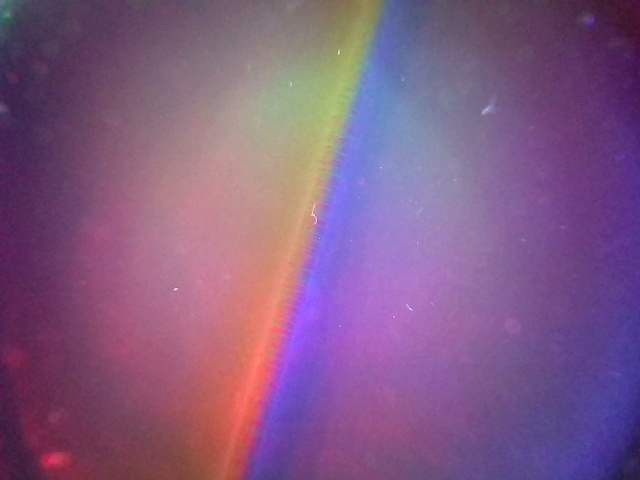contact: (223, 2, 390, 479)
